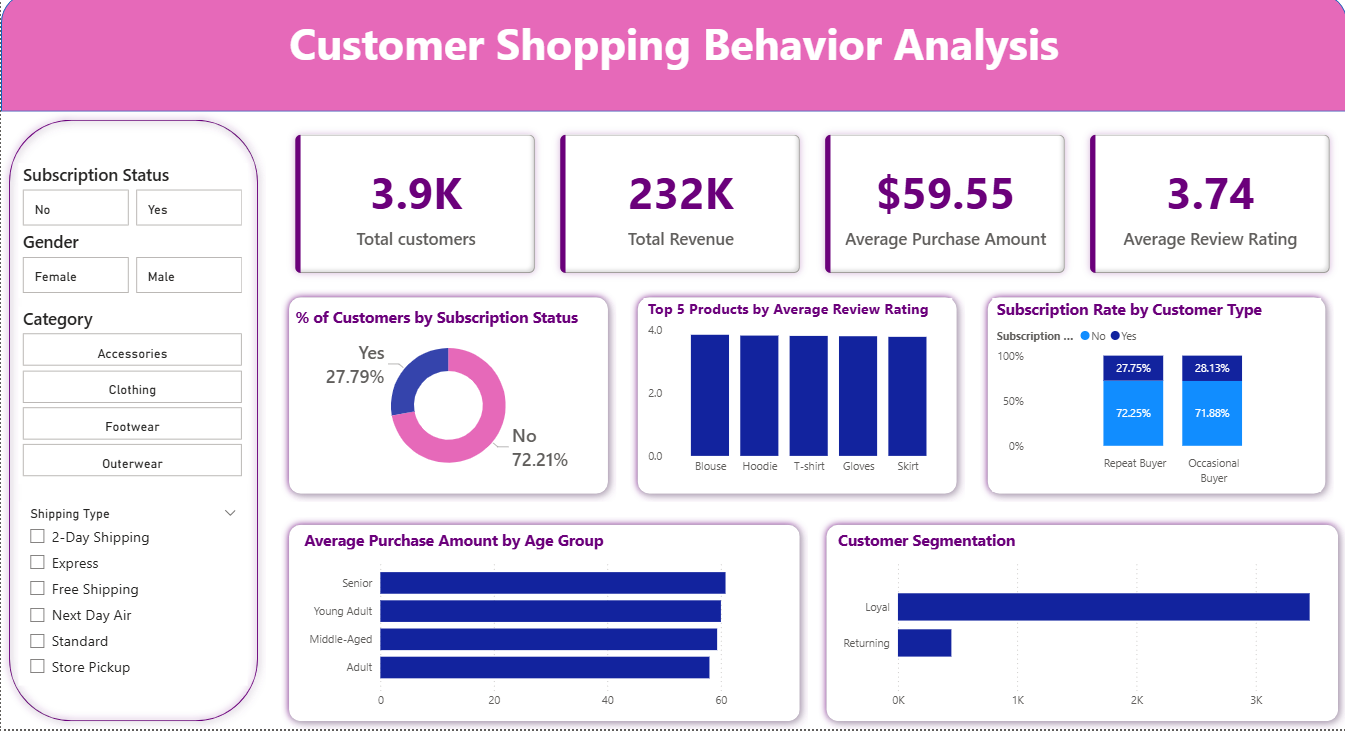

Layout of this report page (visuals, bound fields, positions):
{"tool":"powerbi","page":{"name":"Page 1","canvas":[1500,820],"ordinal":0},"visuals":[{"type":"cardVisual","fields":{"Data":["customer_analysis customer.Number of customers","customer_analysis customer.Total Revenue","customer_analysis customer.Average Purchase Amount","customer_analysis customer.Average Review Rating"]},"box":[311.8,142.7,1187,186.8],"z":0},{"type":"shape","box":[0,0,1499.9,132.3],"z":1000},{"type":"textbox","box":[0,18.1,1499.9,98.9],"z":2000},{"type":"shape","box":[312,330.1,373.2,236.8],"z":3000},{"type":"donutChart","title":"% of Customers by Subscription Status","fields":{"Category":["customer_analysis customer.subscription_status"],"Y":["CountNonNull(customer_analysis customer.customer_id)"]},"box":[323.1,349.6,351,197.8],"z":4000},{"type":"shape","box":[701.2,330.1,373.2,236.8],"z":5000},{"type":"shape","box":[1090.5,330.1,394.1,236.8],"z":6000},{"type":"shape","box":[312,583.5,587,236.8],"z":7000},{"type":"shape","box":[910.8,583.5,588,236.8],"z":8000},{"type":"clusteredColumnChart","title":"Top 5 Products by Average Review Rating","fields":{"Category":["customer_analysis customer.item_purchased"],"Y":["customer_analysis customer.Average Review Rating"]},"box":[715.8,339.8,344,206.1],"z":9000},{"type":"hundredPercentStackedColumnChart","title":"Subscription Rate by Customer Type","fields":{"Y":["CountNonNull(customer_analysis customer.customer_id)"],"Series":["customer_analysis customer.subscription_status"],"Category":["customer_analysis customer.Customer Type"]},"box":[1104.4,339.8,366.3,215.9],"z":10000},{"type":"shape","box":[0,132.3,295.2,688],"z":11000},{"type":"advancedSlicerVisual","title":"Subscription Status","fields":{"Values":["customer_analysis customer.subscription_status"]},"box":[19.5,189.4,254.9,75.2],"z":12000},{"type":"advancedSlicerVisual","title":"Gender","fields":{"Values":["customer_analysis customer.gender"]},"box":[19.5,264.6,254.9,75.2],"z":13000},{"type":"advancedSlicerVisual","title":"Category","fields":{"Values":["customer_analysis customer.category"]},"box":[19.5,349.6,254.9,197.8],"z":14000},{"type":"slicer","fields":{"Values":["customer_analysis customer.shipping_type"]},"box":[19.5,566.8,254.9,204.7],"z":15000},{"type":"clusteredBarChart","title":"Average Purchase Amount by Age Group","fields":{"Category":["customer_analysis customer.age_group"],"Y":["customer_analysis customer.Average Purchase Amount"]},"box":[332.8,597.5,544.5,208.9],"z":16000},{"type":"clusteredBarChart","title":"Customer Segmentation","fields":{"Y":["CountNonNull(customer_analysis customer.customer_id)"],"Category":["customer_analysis customer.Customer Segment"]},"box":[927.5,597.5,557.1,208.9],"z":17000}]}

Visuals, with their boxes in screenshot pixels (x1, y1, x2, y2), scaled from the page's 1500x820 canvas onto the 1345x731 screenshot:
cardVisual - customer_analysis customer.Number of customers x customer_analysis customer.Total Revenue: (x1=280, y1=127, x2=1344, y2=294)
shape: (x1=0, y1=0, x2=1344, y2=118)
textbox: (x1=0, y1=16, x2=1344, y2=104)
shape: (x1=280, y1=294, x2=614, y2=505)
"% of Customers by Subscription Status" donutChart: (x1=290, y1=312, x2=604, y2=488)
shape: (x1=629, y1=294, x2=963, y2=505)
shape: (x1=978, y1=294, x2=1331, y2=505)
shape: (x1=280, y1=520, x2=806, y2=730)
shape: (x1=817, y1=520, x2=1344, y2=730)
"Top 5 Products by Average Review Rating" clusteredColumnChart: (x1=642, y1=303, x2=950, y2=487)
"Subscription Rate by Customer Type" hundredPercentStackedColumnChart: (x1=990, y1=303, x2=1319, y2=495)
shape: (x1=0, y1=118, x2=265, y2=730)
"Subscription Status" advancedSlicerVisual: (x1=17, y1=169, x2=246, y2=236)
"Gender" advancedSlicerVisual: (x1=17, y1=236, x2=246, y2=303)
"Category" advancedSlicerVisual: (x1=17, y1=312, x2=246, y2=488)
slicer - customer_analysis customer.shipping_type: (x1=17, y1=505, x2=246, y2=688)
"Average Purchase Amount by Age Group" clusteredBarChart: (x1=298, y1=533, x2=787, y2=719)
"Customer Segmentation" clusteredBarChart: (x1=832, y1=533, x2=1331, y2=719)
